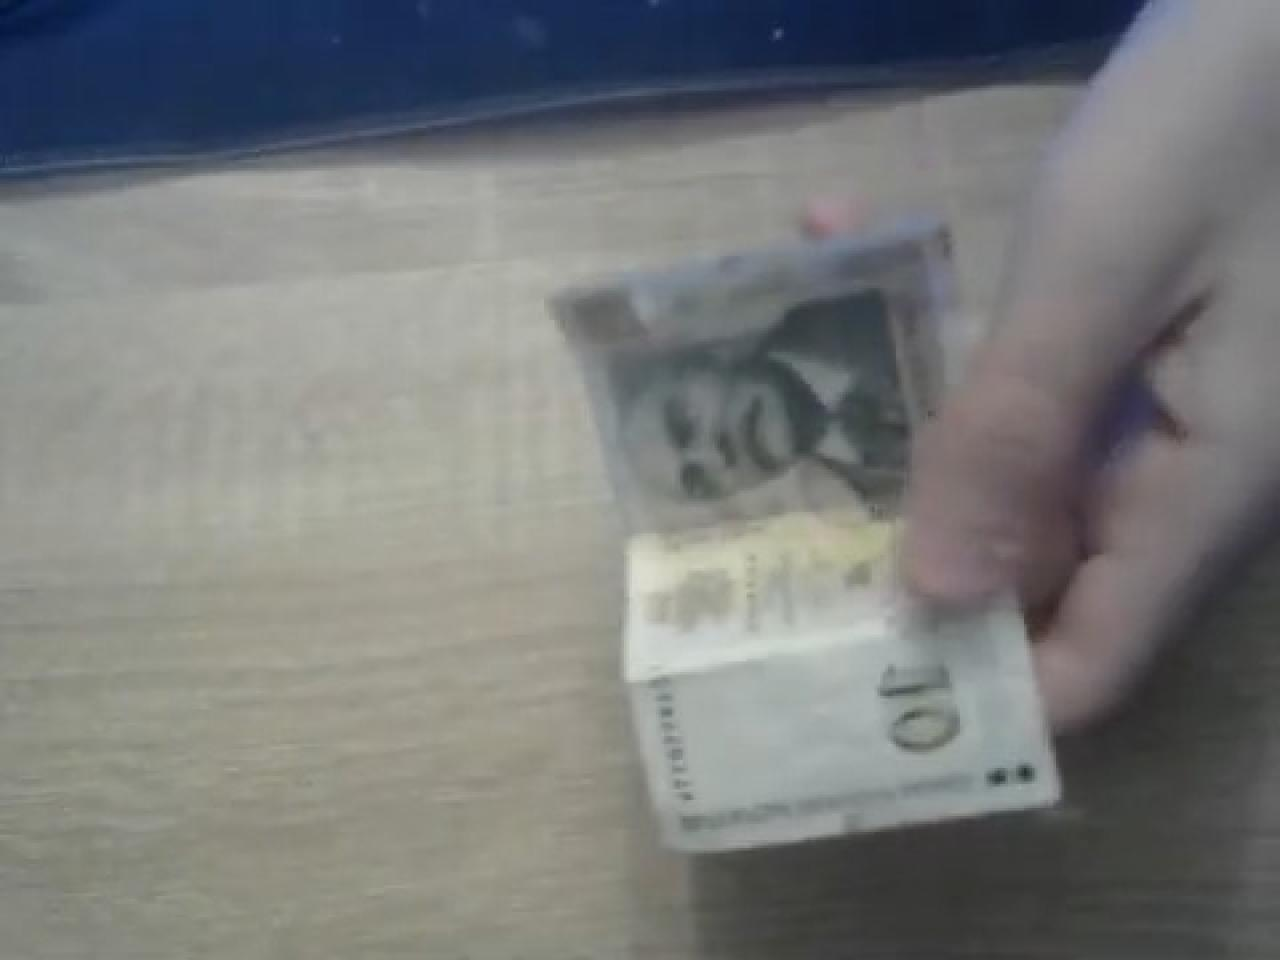10leva: (544, 224, 1061, 856)
